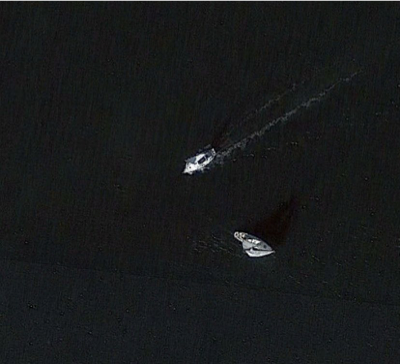boat: (232, 229, 275, 257), (183, 146, 221, 174)
